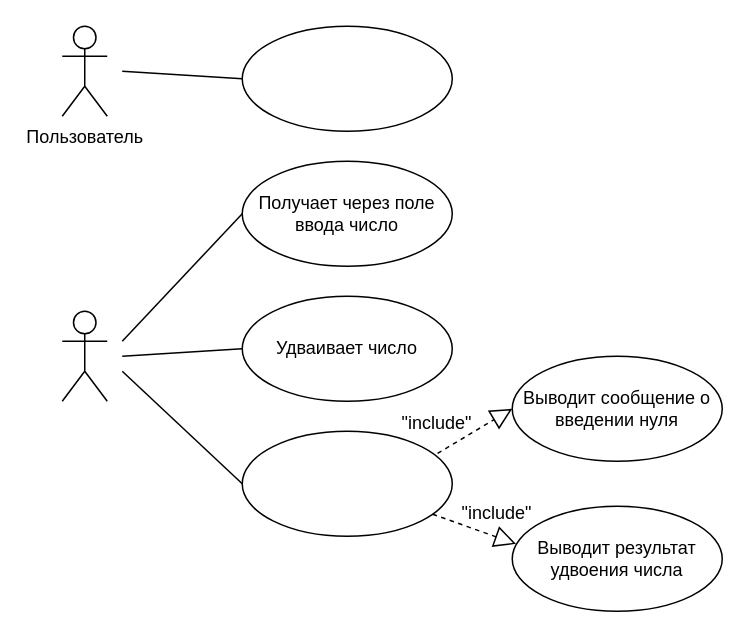
The diagram is 749 pixels wide and 638 high, and some of its shapes have lost their labels. Here are the shapes that lost their labels. From the top down, the box of each, then its label:
(241, 25, 452, 131): Ввод числа
(61, 310, 107, 401): Программа
(241, 430, 452, 536): Выводит результат на экран
